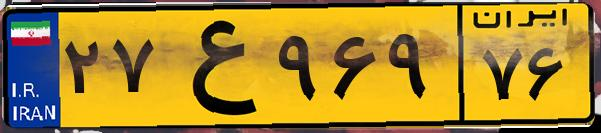2: (57, 26, 110, 100)
6: (330, 28, 385, 110), (525, 38, 570, 115)
7: (475, 38, 525, 113), (110, 28, 158, 98)
9: (270, 28, 330, 110), (385, 28, 445, 110)
ع: (158, 12, 270, 120)
